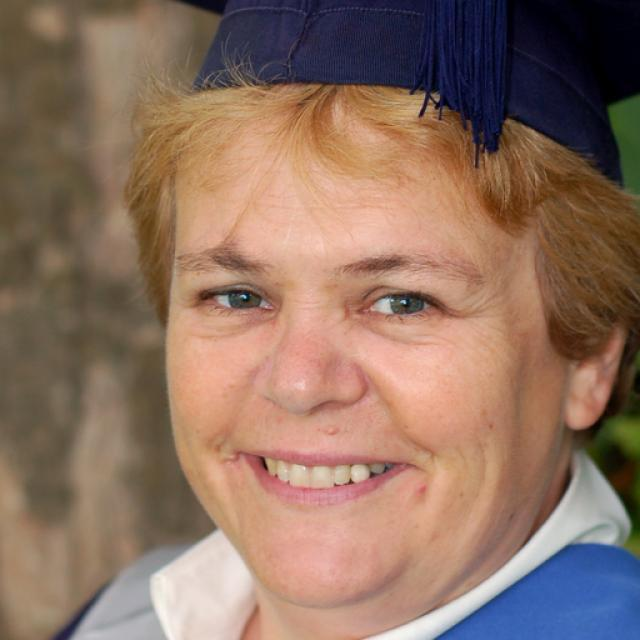happy: (161, 111, 559, 616)
